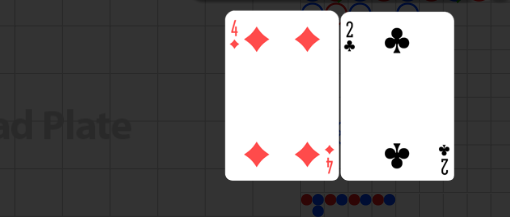2C: (437, 142, 451, 176)
4D: (228, 19, 241, 51)
